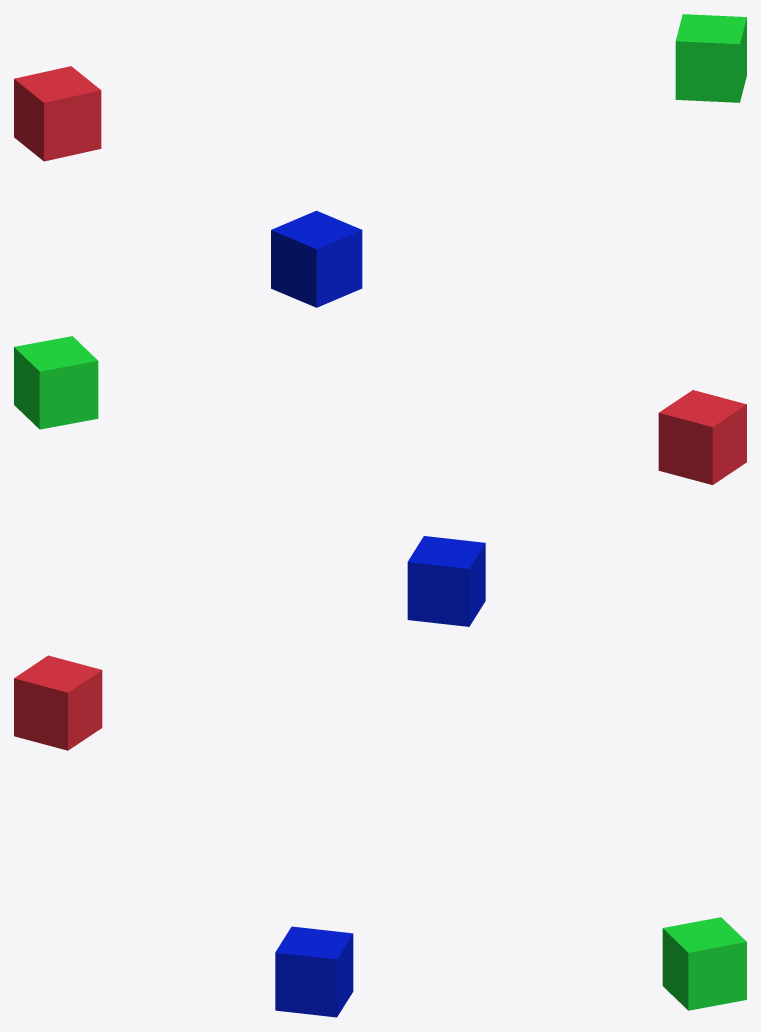
The model's file is Scale.fbx_Wuerfel.fbx.
3 views of the same model, one above another, from view 1: azimuth 30°, elevation 25°; view 2: azimuth 150°, elevation 25°; view 3: azimuth 330°, elevation 25° (orthographic).
Visible parts, largest first — view 1: Cube.002, Cube.003, Cube; view 2: Cube.003, Cube, Cube.002; view 3: Cube.003, Cube, Cube.002.
Part boxes in pixels (x1,y1,x2,y2): Cube.002: (271,210,362,307); Cube.003: (14,66,101,161); Cube: (675,14,746,102); Cube.003: (658,390,746,484); Cube: (14,336,98,429); Cube.002: (407,536,485,626); Cube.003: (14,655,102,750); Cube: (662,917,746,1010); Cube.002: (275,926,353,1017).
Bounding box in the file's own units: 3.64 × 0.3944 × 1.29.
